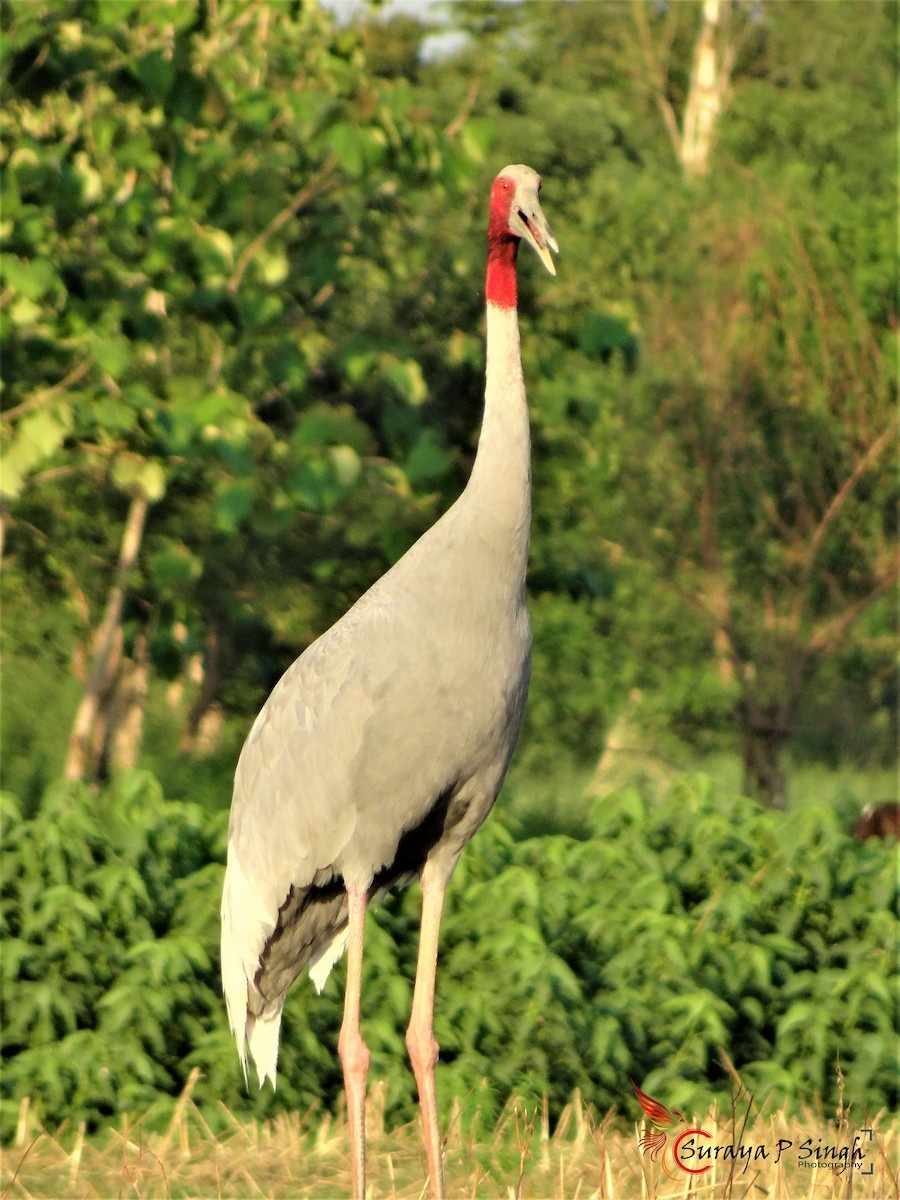crane: (221, 154, 567, 1191)
